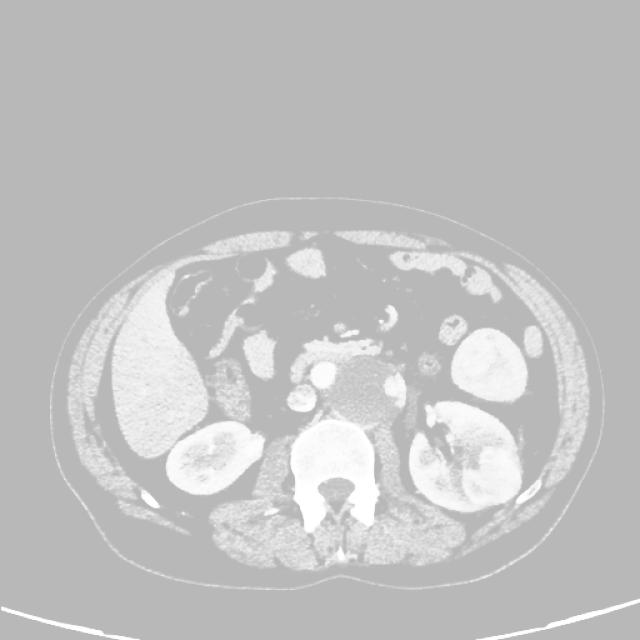TUMOR: (159, 273, 588, 493)
